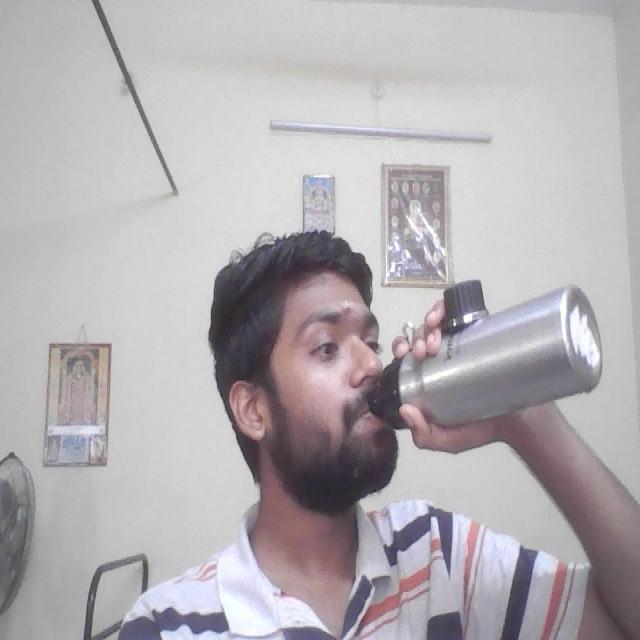Drinking: (361, 269, 605, 416)
